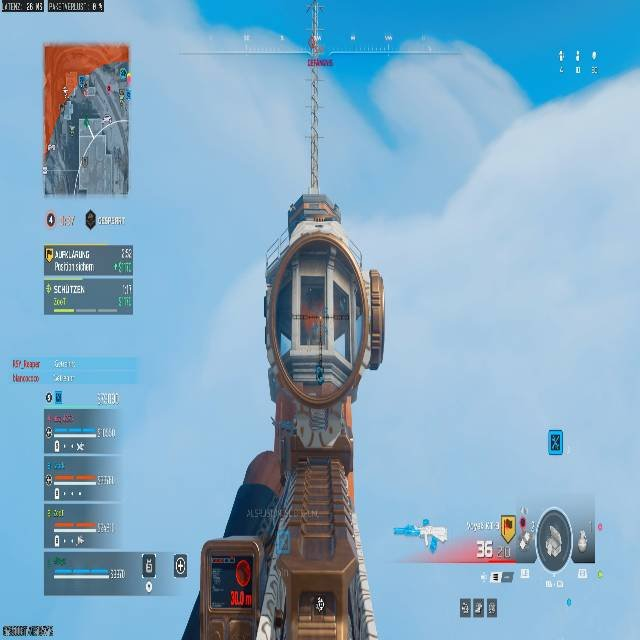head: (287, 192, 340, 231)
player: (188, 192, 391, 640)
